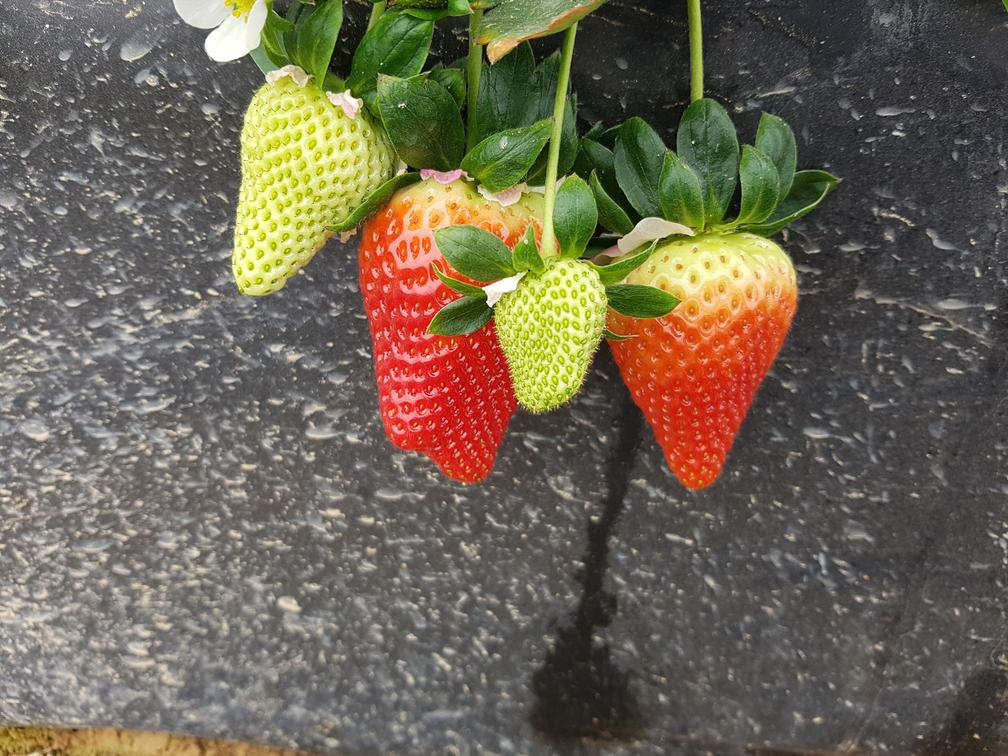Ripe: (605, 235, 807, 492), (361, 194, 495, 478)
Unripe: (218, 67, 364, 302), (496, 269, 603, 410)
